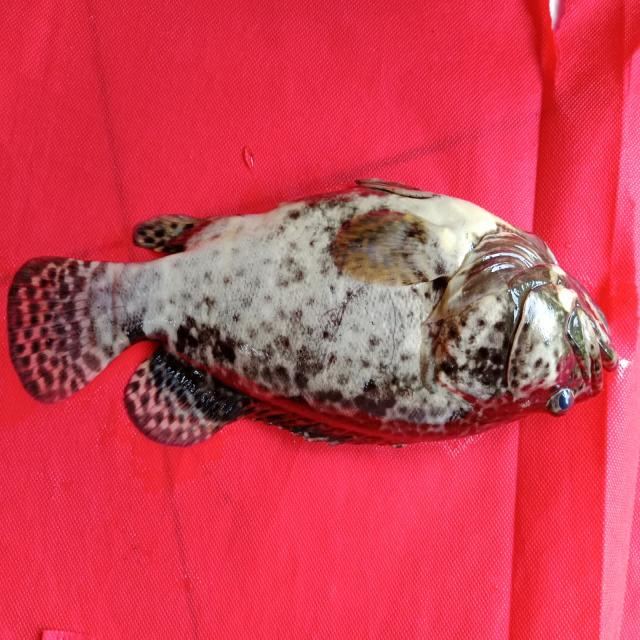ikan: (9, 160, 629, 463)
